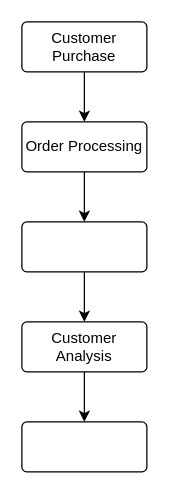
Some shapes in this 169 by 494 pixel diagram are drawn without their labels. Here are the shapes that lost their labels. From the top down, the centre of each, then its label:
At (x=84, y=246): "Revenue Calculation".
At (x=84, y=446): "Management Reporting".
